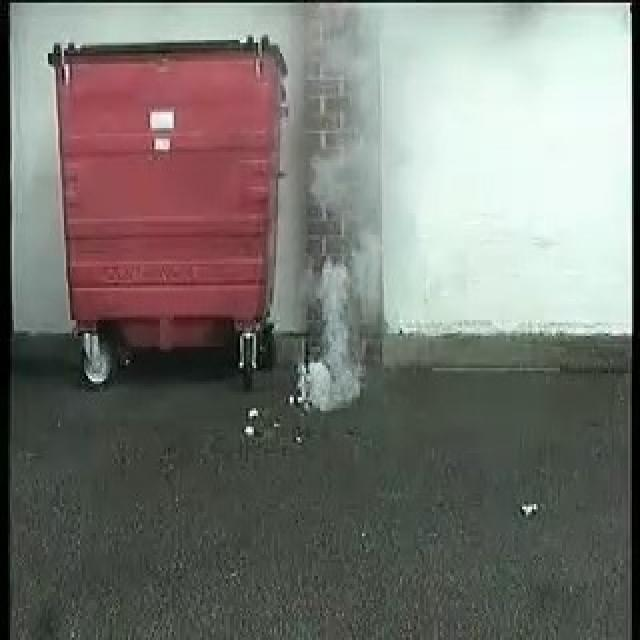smoke: (289, 265, 370, 403)
